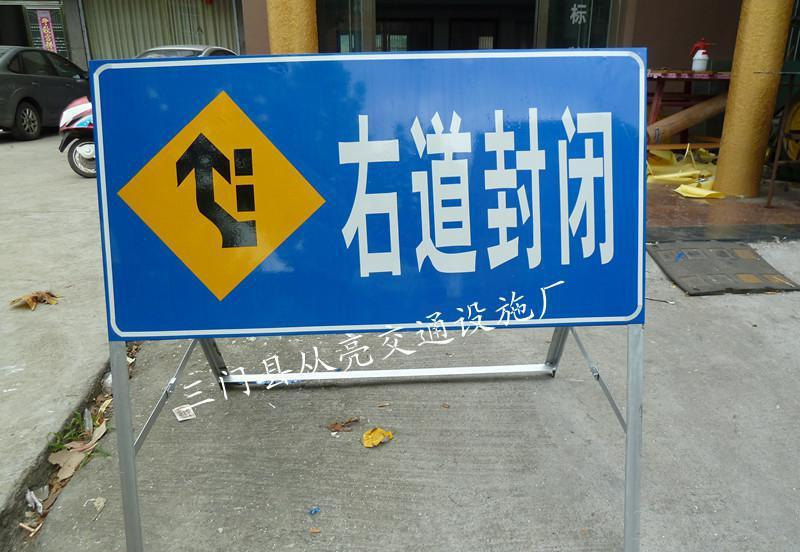sign: (91, 68, 654, 340)
